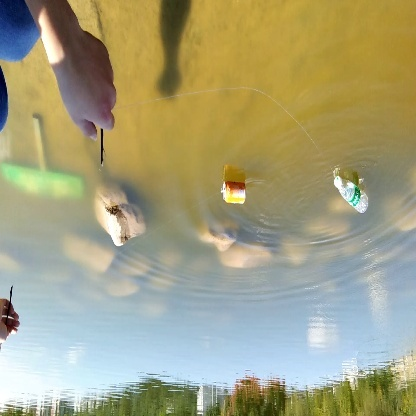bottle: (330, 171, 374, 215), (219, 180, 250, 209)
